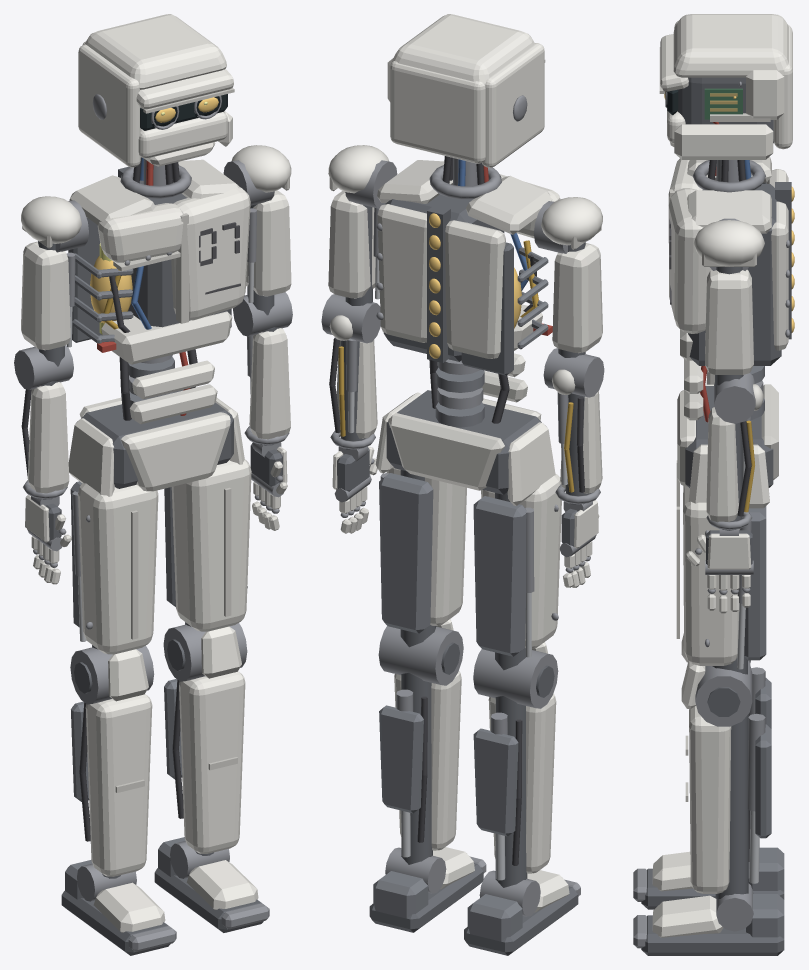
Rendered from unit07.glb.
3 renders of one model, left to right at view 1: azimuth 30°, elevation 25°; view 2: azimuth 150°, elevation 25°; view 3: azimuth 270°, elevation 25°, orthographic. The views are drawn at different scales.
Visible parts, largest first — view 1: ceramic.004, ceramic, ceramic.002, ceramic.006, ceramic.012, ceramic.034, ceramic.008, ceramic.036, ceramic.026, ceramic.019, ceramic.027, ceramic*0.005 (+43 smaller); view 2: frame*1.4, ceramic.035, frame*1.003, ceramic.015, ceramic.014, ceramic.034, ceramic*0.9, ceramic.036, ceramic.002, ceramic.026, ceramic.006, ceramic (+43 smaller); view 3: ceramic.002, ceramic.034, ceramic, ceramic.018, ceramic.012, ceramic.038, frame.009, frame.002, ceramic.019, frame.003, ceramic*0.008, frame*1.4 (+40 smaller).
Boxes of the visible parts, x1=… form: ceramic.004: x1=78, y1=483, x2=158, y2=654; ceramic: x1=171, y1=459, x2=251, y2=631; ceramic.002: x1=179, y1=671, x2=245, y2=853; ceramic.006: x1=85, y1=694, x2=152, y2=876; ceramic.012: x1=171, y1=187, x2=250, y2=320; ceramic.034: x1=84, y1=14, x2=226, y2=89; ceramic.008: x1=121, y1=412, x2=230, y2=491; ceramic.036: x1=78, y1=44, x2=140, y2=167; ceramic.026: x1=21, y1=241, x2=70, y2=350; ceramic.019: x1=249, y1=328, x2=290, y2=439; ceramic.027: x1=27, y1=382, x2=69, y2=493; ceramic*0.005: x1=101, y1=311, x2=232, y2=364; frame*1.4: x1=379, y1=473, x2=433, y2=633; ceramic.035: x1=390, y1=61, x2=485, y2=163; frame*1.003: x1=473, y1=496, x2=526, y2=656; ceramic.015: x1=445, y1=220, x2=505, y2=358; ceramic.014: x1=377, y1=204, x2=426, y2=342; ceramic.034: x1=392, y1=14, x2=534, y2=85; ceramic*0.9: x1=388, y1=413, x2=504, y2=490; ceramic.036: x1=482, y1=43, x2=544, y2=167; ceramic.002: x1=394, y1=671, x2=461, y2=850; ceramic.026: x1=552, y1=243, x2=602, y2=353; ceramic.006: x1=488, y1=694, x2=556, y2=873; ceramic: x1=386, y1=467, x2=466, y2=625; ceramic.002: x1=689, y1=706, x2=731, y2=893; ceramic.034: x1=673, y1=14, x2=788, y2=77; ceramic: x1=683, y1=486, x2=739, y2=665; ceramic.018: x1=705, y1=269, x2=753, y2=374; ceramic.012: x1=668, y1=188, x2=711, y2=333; ceramic.038: x1=674, y1=124, x2=773, y2=159; frame.009: x1=688, y1=184, x2=781, y2=365; frame.002: x1=715, y1=714, x2=748, y2=899; ceramic.019: x1=706, y1=407, x2=738, y2=522; frame.003: x1=641, y1=915, x2=784, y2=955; ceramic*0.008: x1=687, y1=190, x2=771, y2=233; frame*1.4: x1=744, y1=506, x2=766, y2=660.
Size of the model in its own units: 0.56 by 1.79 by 0.294.
